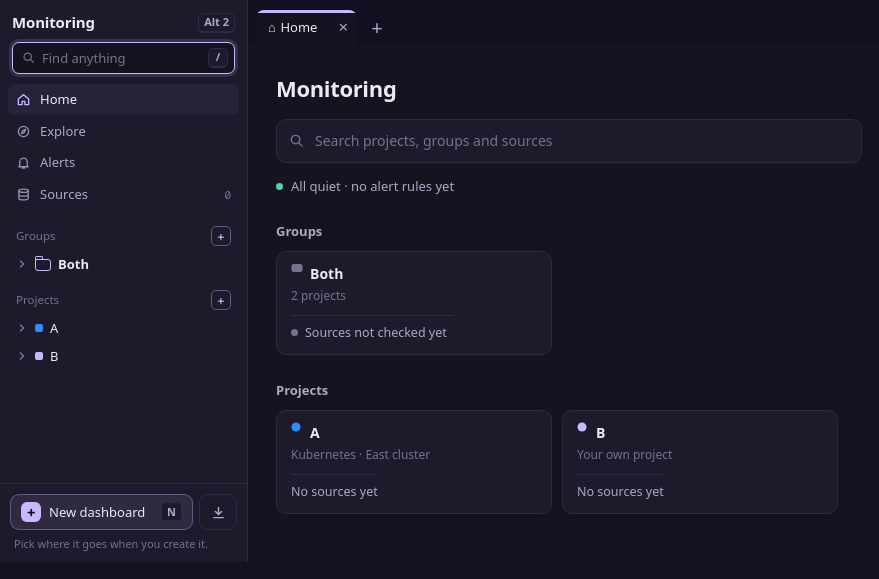
Test: Monitoring sidebar › Find subtitles name the cluster, not its id
expect the list item "Both" is shown: met, box [17, 255, 89, 273]
Type "A" into the dropdown labelled "Find anything". click: [122, 58]
box: [42, 43, 201, 73]
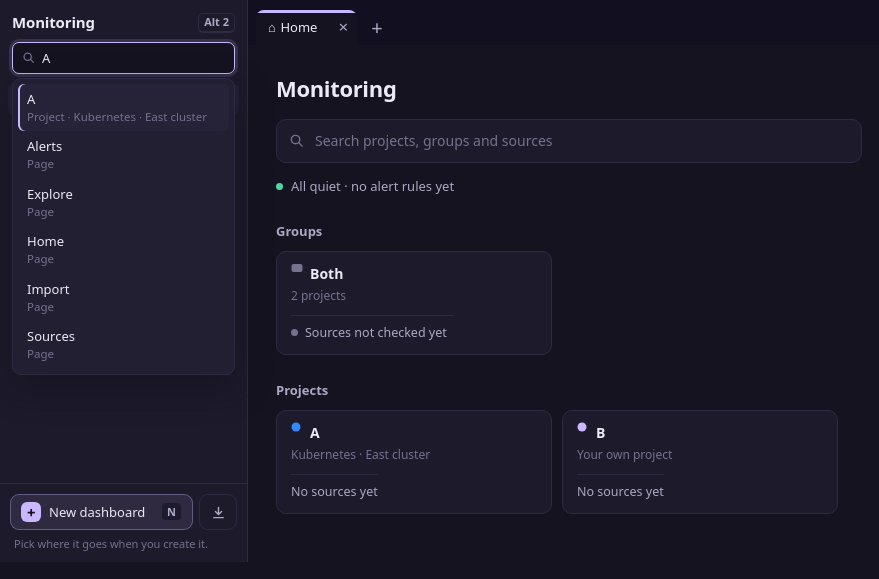
expect the option named "AProject" shows "Kubernetes · East cluster": met, box [18, 84, 229, 131]
